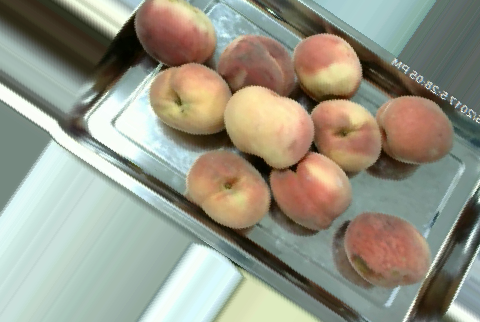Peach: (223, 86, 313, 166), (339, 212, 431, 290), (186, 148, 274, 227), (271, 150, 357, 229), (152, 60, 233, 141), (375, 94, 457, 166), (217, 30, 292, 103), (135, 1, 215, 69), (310, 101, 382, 173), (292, 34, 360, 100)
